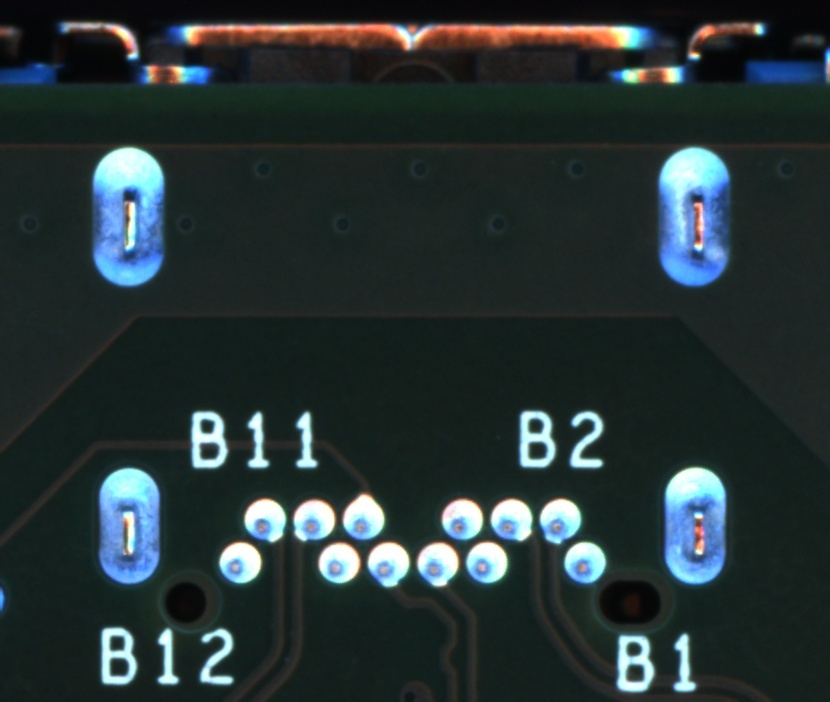SOLDER: (462, 538, 512, 587), (363, 540, 413, 589), (314, 540, 364, 589), (215, 538, 265, 587), (338, 492, 388, 541), (486, 495, 536, 544), (559, 538, 609, 587), (241, 495, 290, 544), (289, 495, 338, 544), (437, 494, 486, 543), (534, 496, 583, 545), (412, 539, 461, 588)
SOLDER2: (79, 139, 175, 296), (645, 140, 741, 296), (646, 445, 742, 601), (82, 448, 178, 604)
